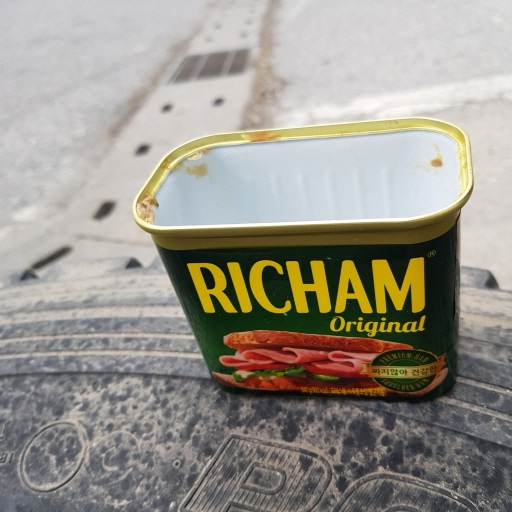Metal_2: (139, 119, 477, 404)
